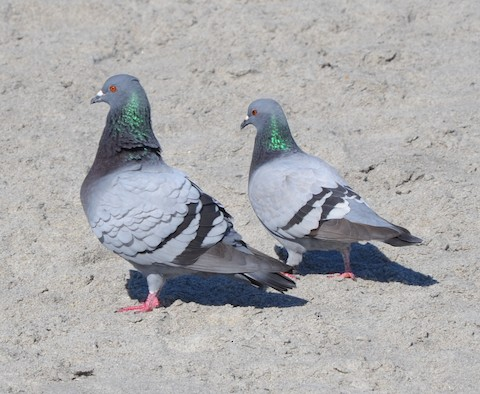pigeon: (72, 66, 299, 320), (229, 91, 429, 292)
